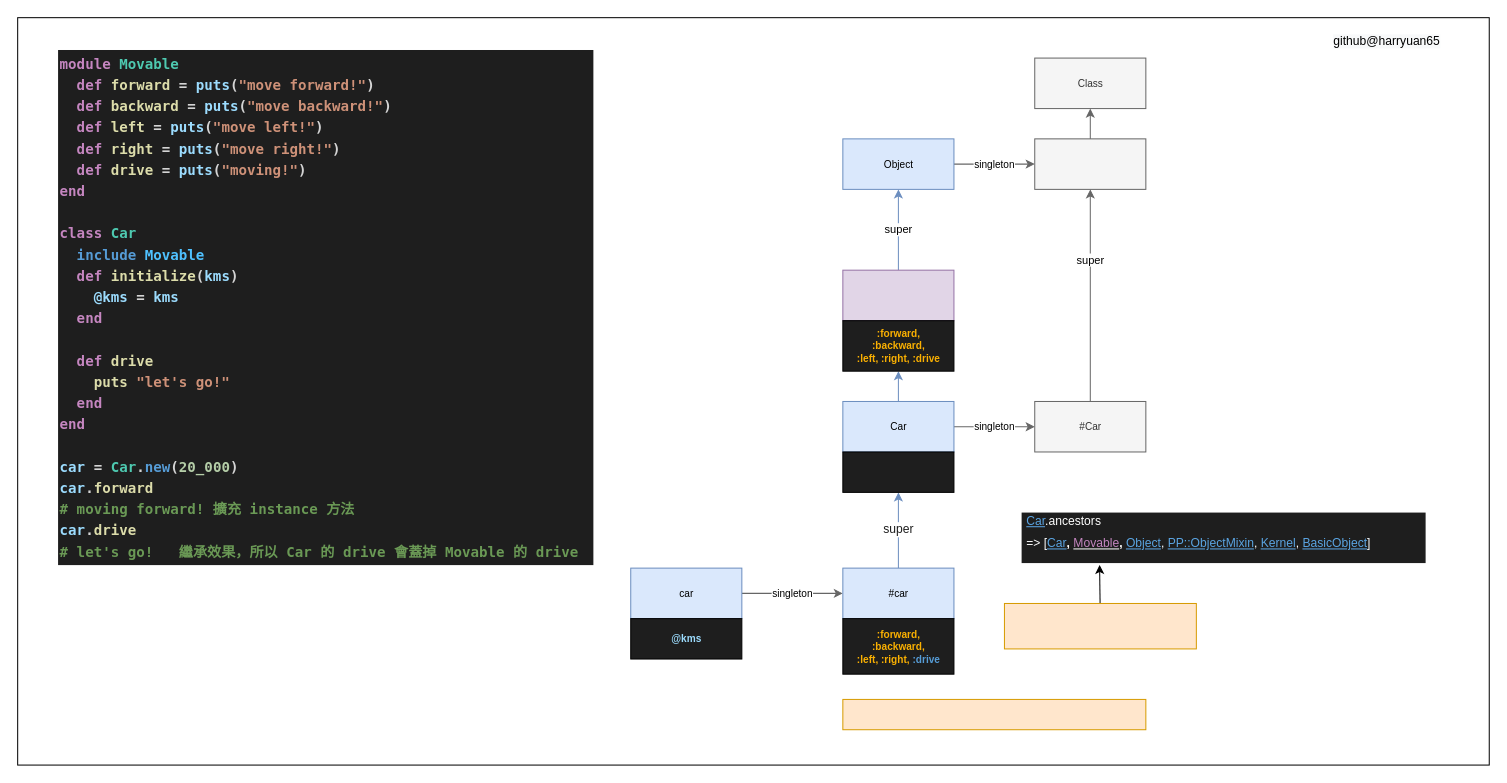
Image size: 1507x783. Some labels were removed from this diagram. Here are the shapes that lost their labels. From the top down, the centre of each, then its label:
At pixel 1090 163: "# Object".
At pixel 898 295: "Movable".
At pixel 898 471: ":drive".
At pixel 1099 625: "可以看到 Movable 被放在上面".
At pixel 994 714: "類似 Car 去繼承 Movable，增加方法到 instance method。 不會覆蓋原有的 drive。".
